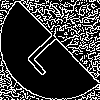L: (24, 25, 77, 77)
